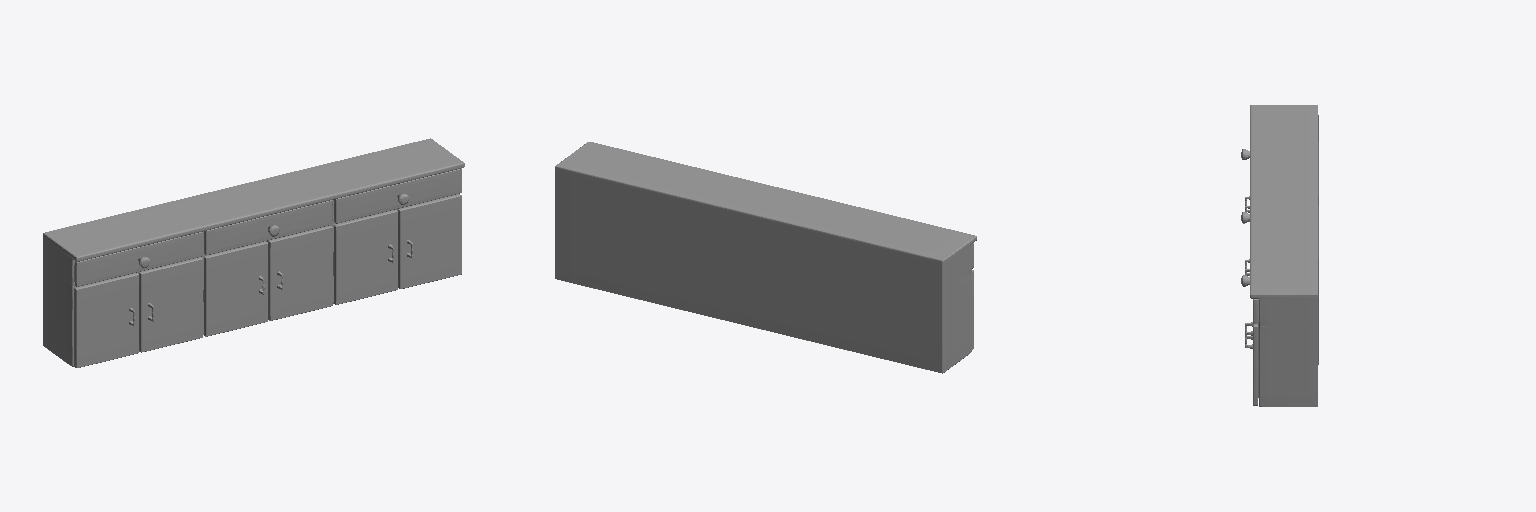
File: Kitchen_3_Wardrobe.obj
3 views of the same model, side by side, from view 1: azimuth 30°, elevation 25°; view 2: azimuth 150°, elevation 25°; view 3: azimuth 270°, elevation 25° (orthographic).
Visible parts, largest first — view 1: Base_Cube, 2_Right_Door_Cube.017, 1_Left_Door_Cube.004, 3_Left_Door_Cube.008, 2_Left_Door_Cube.006, 1_Right_Door_Cube.002, 3_Right_Door_Cube.016, 1_Banister_Cube.010, 2_Banister_Cube.001, 3_Banister_Cube.007; view 2: Base_Cube; view 3: Base_Cube.
Part boxes in pixels (bbox=[...]): Base_Cube: bbox=[43, 138, 464, 366]; 2_Right_Door_Cube.017: bbox=[268, 226, 332, 320]; 1_Left_Door_Cube.004: bbox=[74, 273, 138, 367]; 3_Left_Door_Cube.008: bbox=[333, 210, 397, 304]; 2_Left_Door_Cube.006: bbox=[203, 241, 267, 336]; 1_Right_Door_Cube.002: bbox=[139, 257, 202, 352]; 3_Right_Door_Cube.016: bbox=[398, 194, 461, 288]; 1_Banister_Cube.010: bbox=[74, 232, 202, 286]; 2_Banister_Cube.001: bbox=[204, 200, 332, 254]; 3_Banister_Cube.007: bbox=[334, 168, 461, 223]; Base_Cube: bbox=[555, 142, 976, 373]; Base_Cube: bbox=[1250, 105, 1318, 406].
Size of the model in its own units: 15 by 4.2 by 2.58.